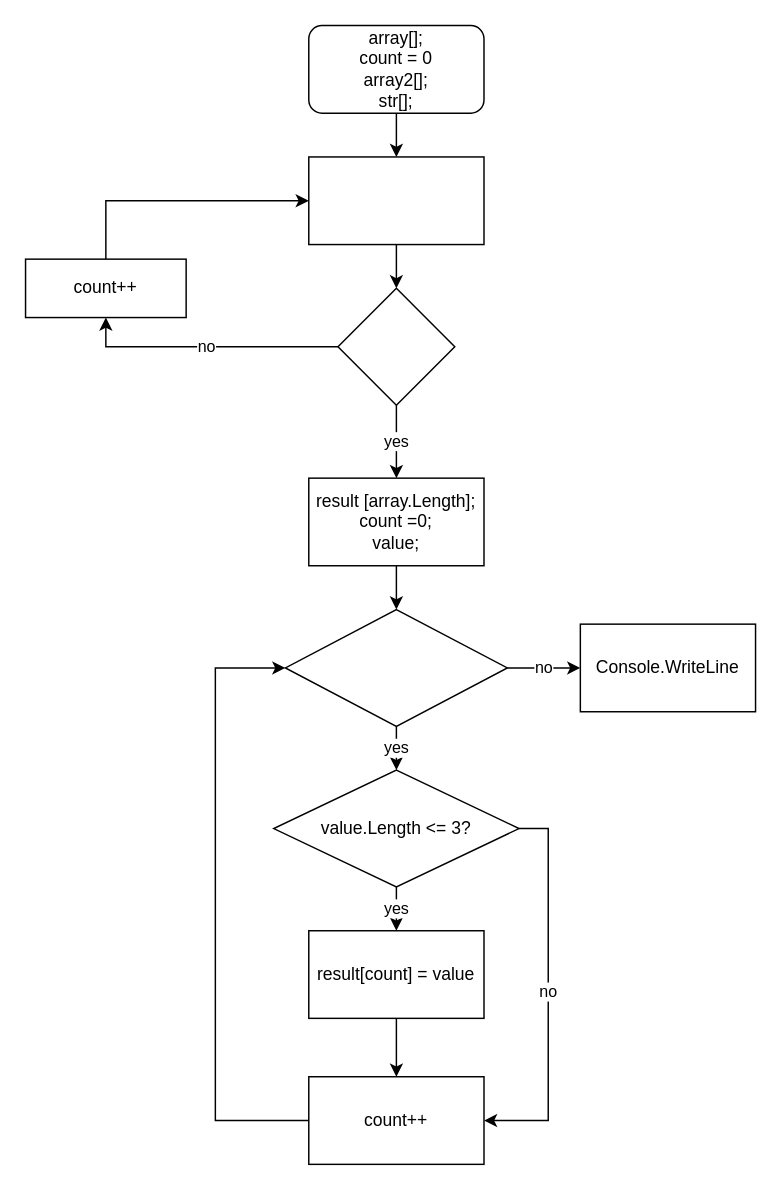
This 781x1190 diagram has some shape labels left out. The shapes that lost their labels are listed below. From the top down, each one's centre as x and y in pixels, then its label:
point (395, 200): enter str
point (396, 346): str ==" "?
point (395, 667): count < array.Length?
